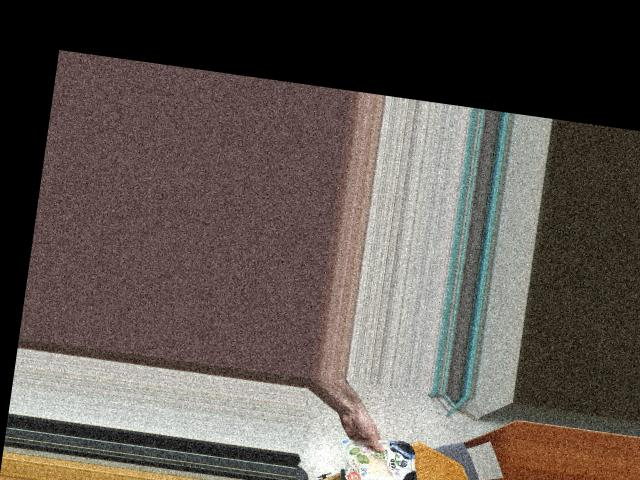cheese: (331, 418, 422, 480)
